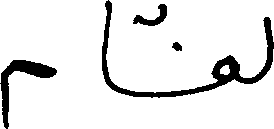ا: (99, 0, 111, 90)
ف: (133, 2, 240, 99)
ل: (261, 14, 273, 79)
م: (0, 57, 56, 127)
